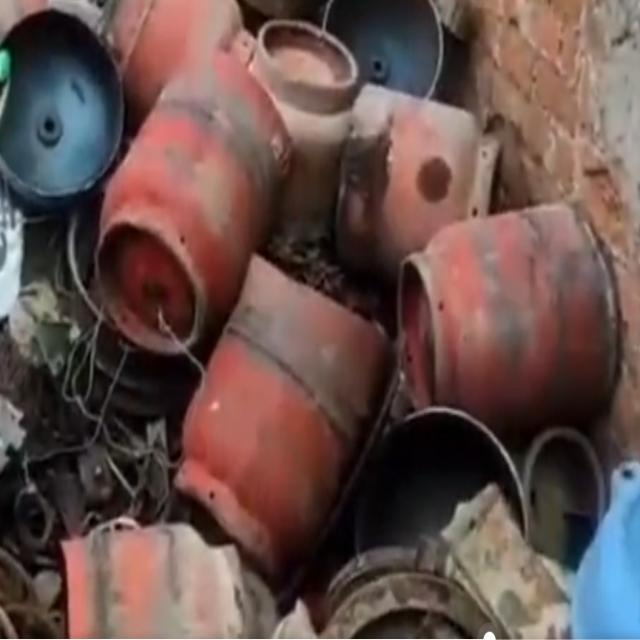cylinder: (175, 257, 399, 580), (96, 50, 294, 355), (396, 202, 623, 440)
